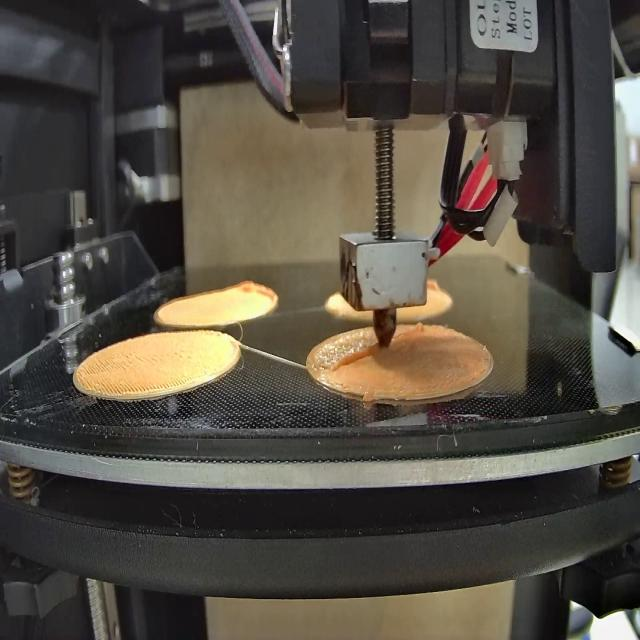over_extrusion: (233, 276, 280, 322), (330, 342, 379, 377), (392, 322, 424, 342), (426, 275, 440, 297)
